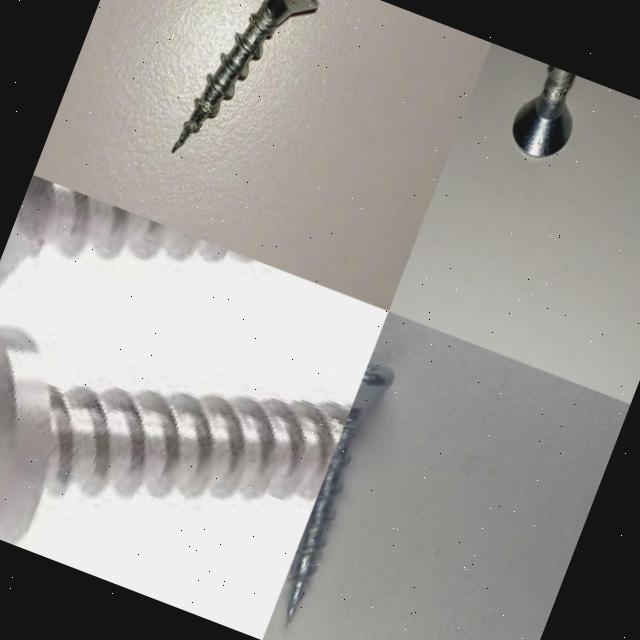Screw: (0, 329, 353, 546), (286, 363, 394, 624), (172, 0, 319, 153), (513, 66, 577, 156)
